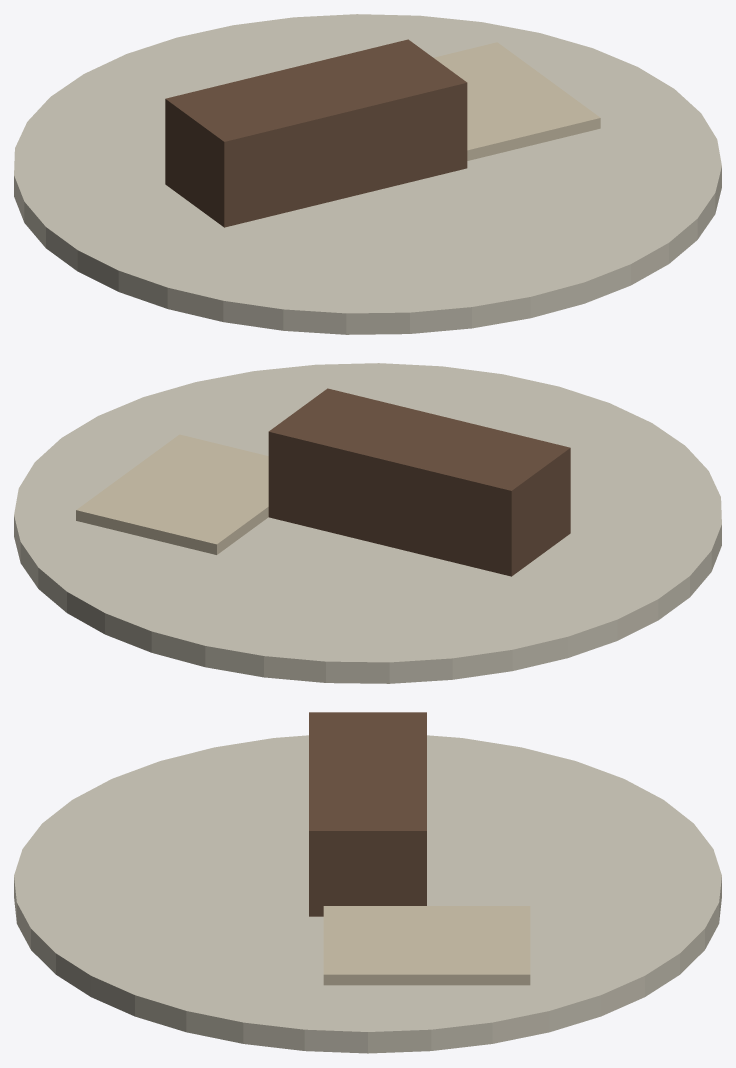
File: snack-cake-plate.glb
3 renders of one model, top to bottom at view 1: azimuth 30°, elevation 25°; view 2: azimuth 150°, elevation 25°; view 3: azimuth 270°, elevation 25°, orthographic.
Visible parts, largest first — view 1: enamel, wood, paper; view 2: enamel, wood, paper; view 3: enamel, wood, paper.
Part boxes in pixels (box(x1,y1,x2,y2)): enamel: box(14, 14, 721, 334); wood: box(165, 39, 467, 227); paper: box(434, 42, 600, 160); enamel: box(14, 363, 721, 683); wood: box(268, 388, 570, 576); paper: box(76, 434, 268, 554); enamel: box(14, 735, 721, 1053); wood: box(309, 712, 426, 916); paper: box(323, 906, 530, 985).
Size of the model in its own units: 0.2395 by 0.04 by 0.2398.
